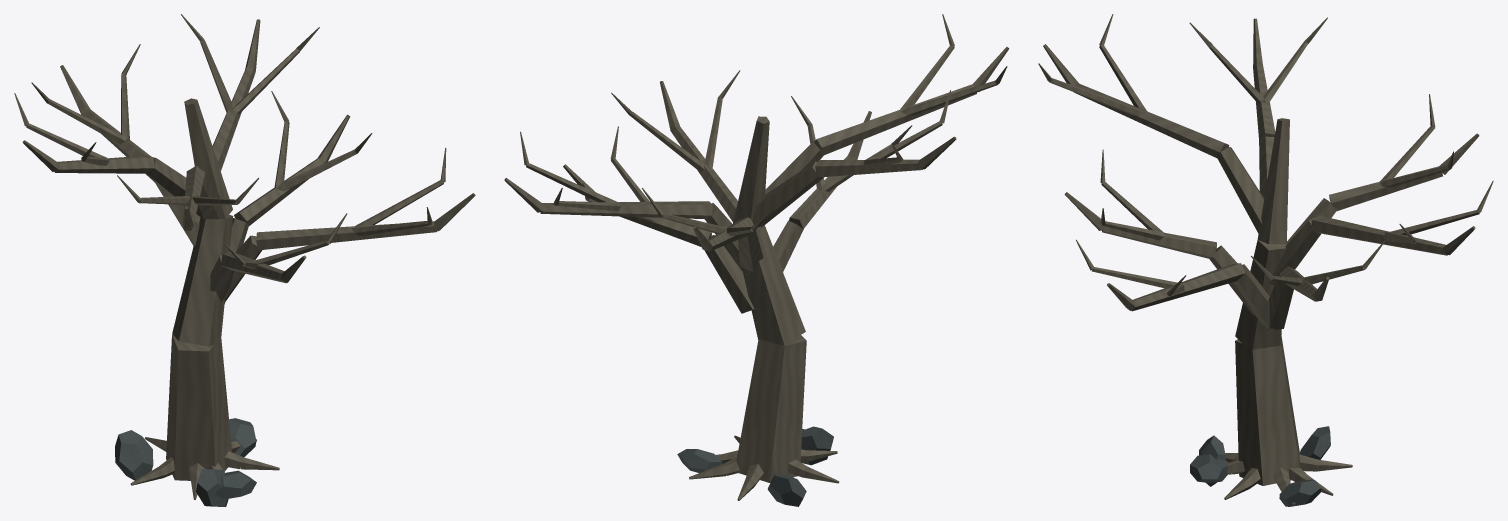
Rendered from dead-canopy.glb.
3 views of the same model, side by side, from view 1: azimuth 30°, elevation 25°; view 2: azimuth 150°, elevation 25°; view 3: azimuth 270°, elevation 25° (orthographic). The views are drawn at different scales.
Parts seen in each view (by area): view 1: bark, basalt; view 2: bark, basalt; view 3: bark, basalt.
Boxes of the visible parts, x1,y1,x2,y2 form: bark: [14, 14, 475, 499]; basalt: [115, 418, 256, 506]; bark: [504, 14, 1009, 500]; basalt: [677, 426, 833, 506]; bark: [1038, 14, 1493, 505]; basalt: [1190, 426, 1330, 506].
Size of the model in its own units: 8.2 by 8.23 by 8.55.
2 materials, 2 textured.
